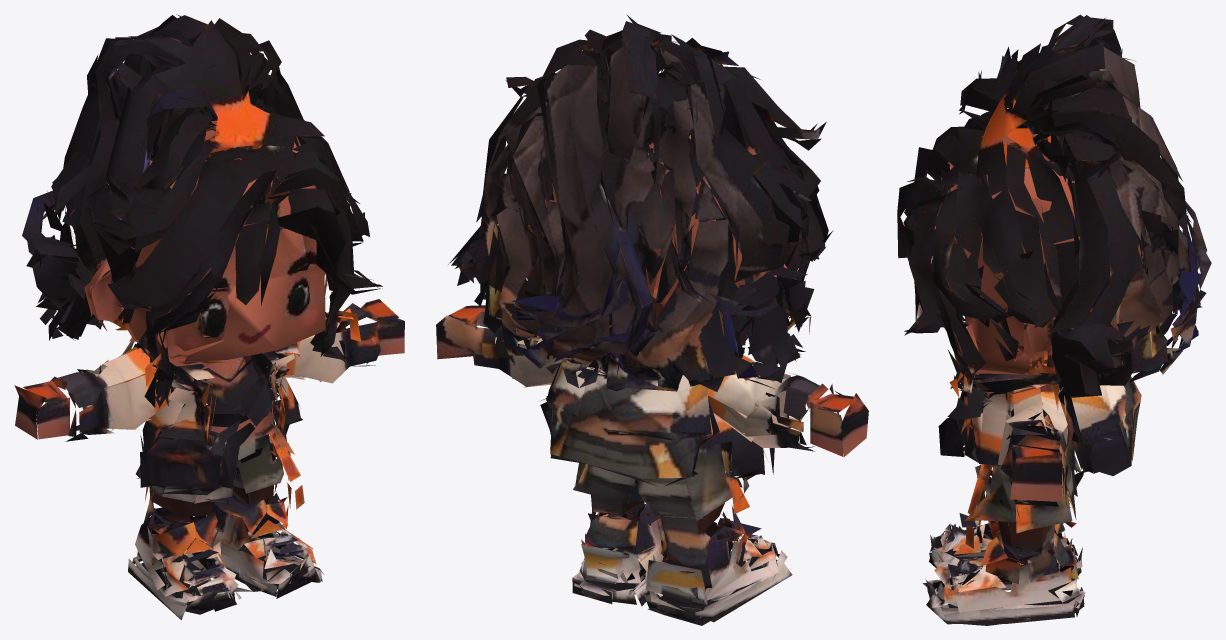
The model's file is yun_game.glb.
3 views of the same model, side by side, from view 1: azimuth 30°, elevation 25°; view 2: azimuth 150°, elevation 25°; view 3: azimuth 270°, elevation 25° (orthographic). The views are drawn at different scales.
Parts seen in each view (by area): view 1: Body; view 2: Body; view 3: Body.
Part boxes in pixels (<box>): Body: <box>14,14,404,619</box>; Body: <box>436,14,868,625</box>; Body: <box>897,14,1211,625</box>.
Size of the model in its own units: 0.5351 by 0.7338 by 0.3734.
Materials: 1 (1 with a texture image).
